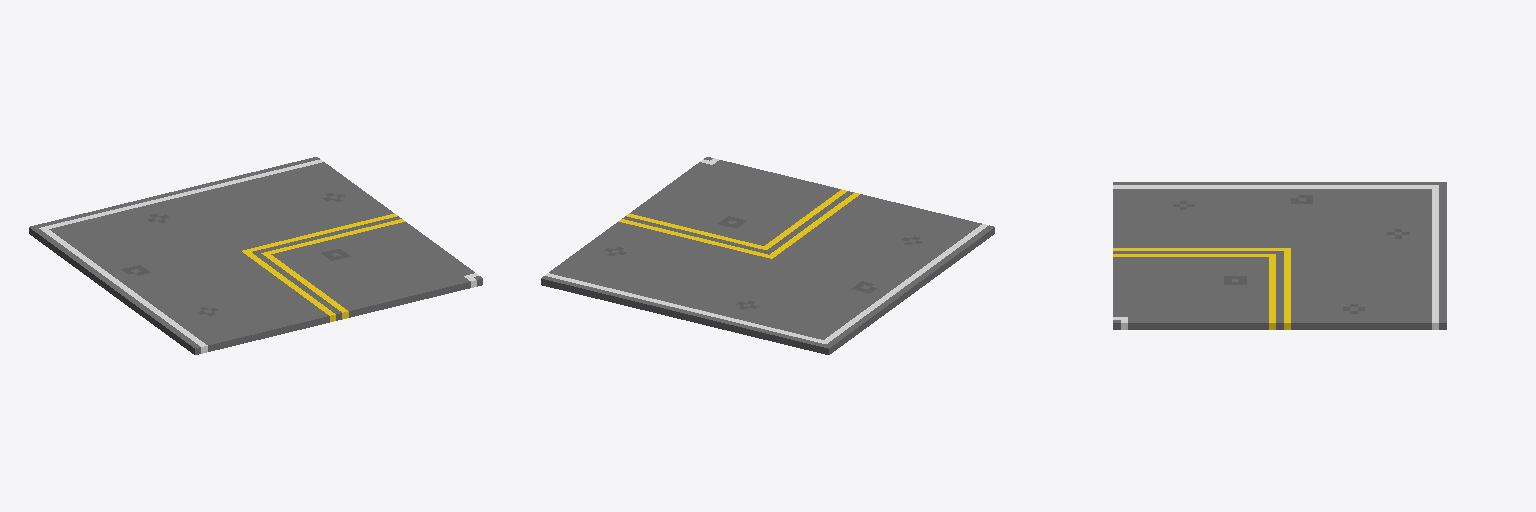
3 renders of one model, left to right at view 1: azimuth 30°, elevation 25°; view 2: azimuth 150°, elevation 25°; view 3: azimuth 270°, elevation 25°, orthographic.
Visible parts, largest first — view 1: Box_80; view 2: Box_80; view 3: Box_80.
Part boxes in pixels (x1,y1,x2,y2): Box_80: (29, 157, 482, 354); Box_80: (541, 157, 994, 354); Box_80: (1113, 182, 1446, 329).
Size of the model in its own units: 45 by 1 by 45.
Materials: 1 (1 with a texture image).